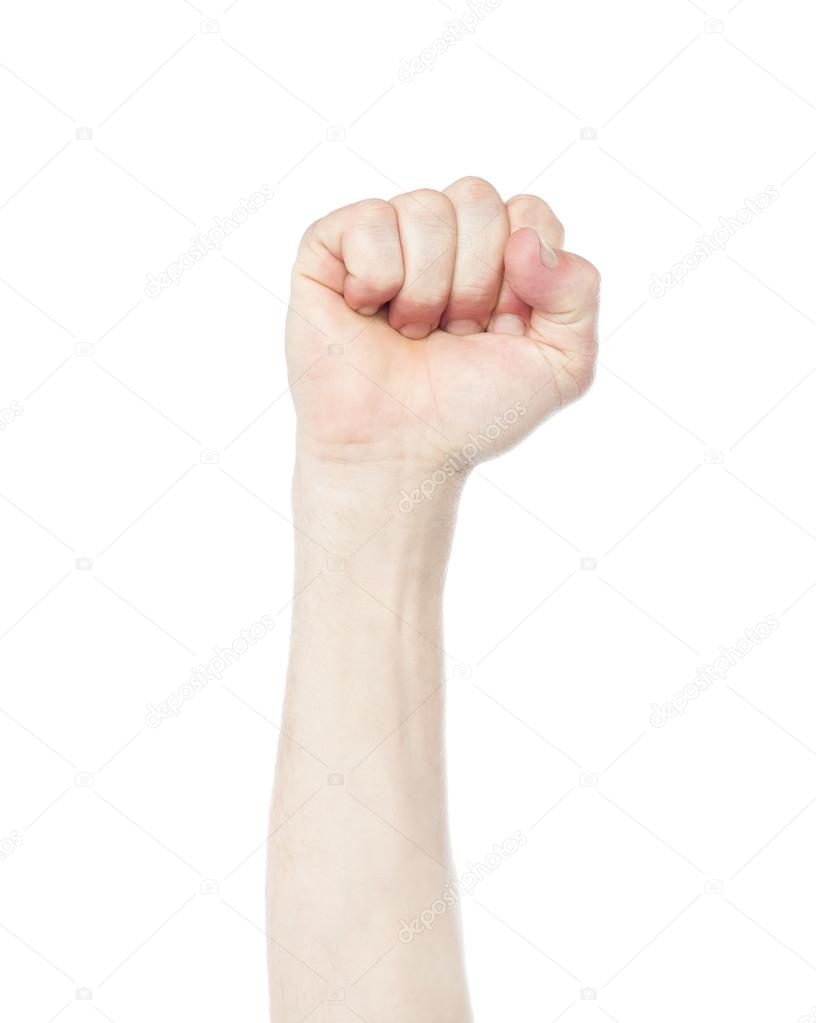fist: (280, 175, 608, 473)
